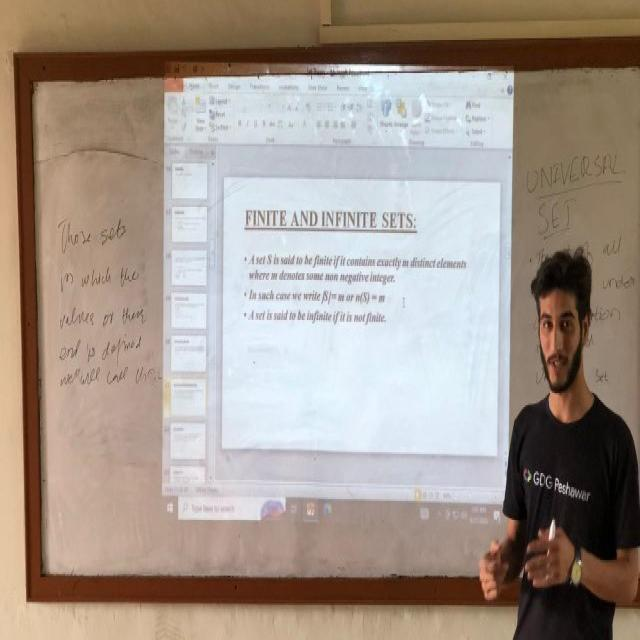Instructor: (511, 228, 630, 640)
Slide: (157, 62, 514, 538)
White-board: (25, 48, 640, 595)
